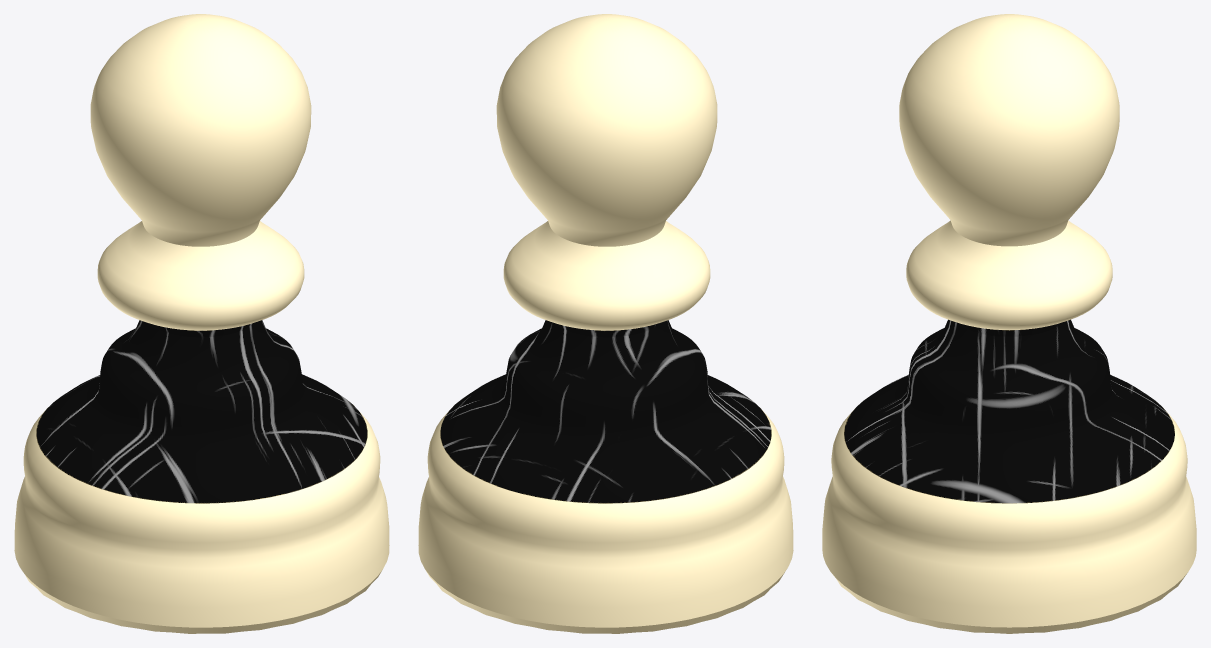
The model's file is Pawn.glb.
The picture shows the model from 3 angles, left to right: view 1: azimuth 30°, elevation 25°; view 2: azimuth 150°, elevation 25°; view 3: azimuth 270°, elevation 25°; orthographic projection.
Parts seen in each view (by area): view 1: pawn.008_7; view 2: pawn.008_7; view 3: pawn.008_7.
Boxes of the visible parts, x1,y1,x2,y2 form: pawn.008_7: [14, 14, 389, 633]; pawn.008_7: [418, 14, 793, 633]; pawn.008_7: [822, 14, 1196, 633].
Bounding box in the file's own units: 0.1752 × 0.2758 × 0.1752.
2 materials, 1 textured.
